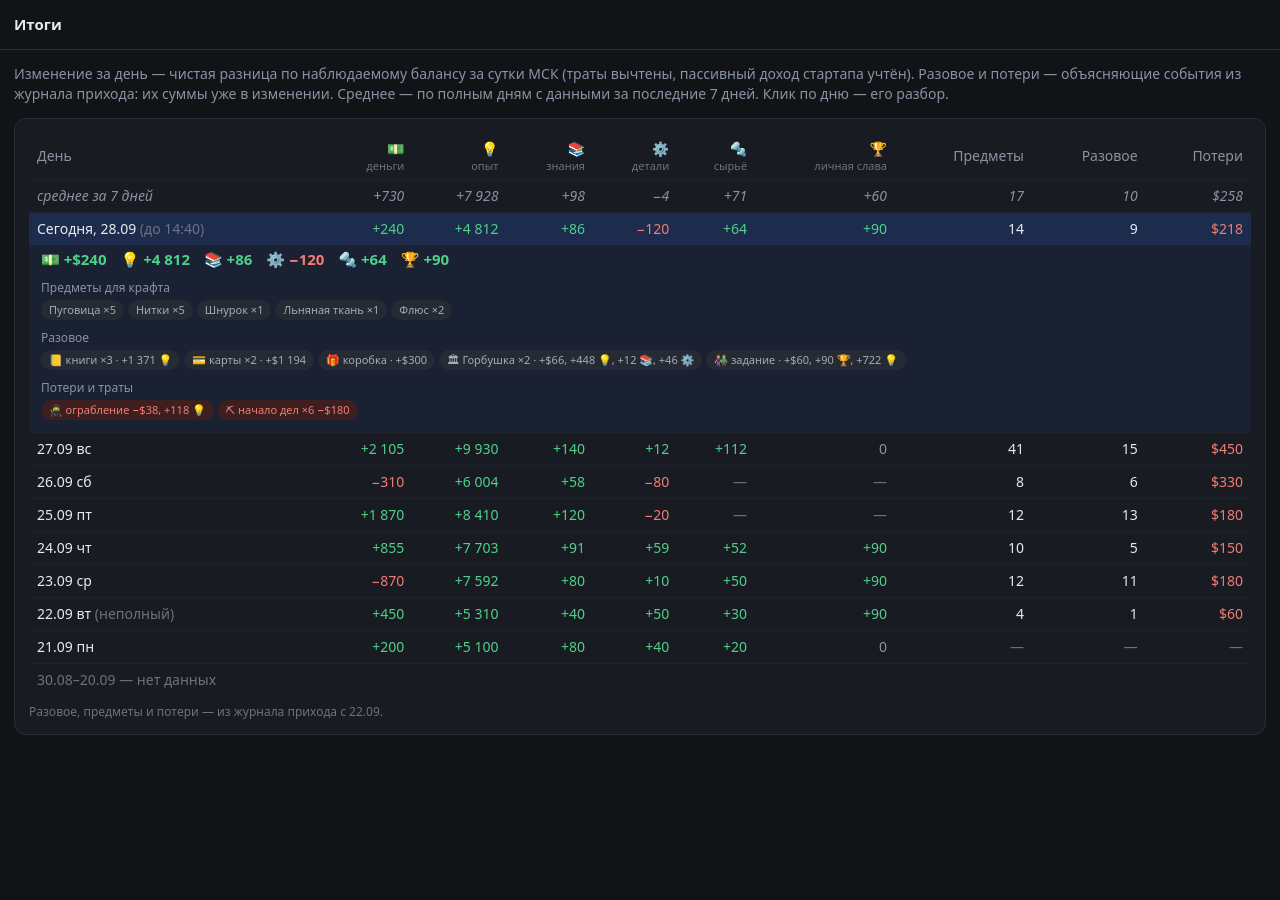
Test case: страница «Итоги» › клик по дню раскрывает его разбор
Click the button "27.09 вс": (64, 449) 33,435 -> 314,463
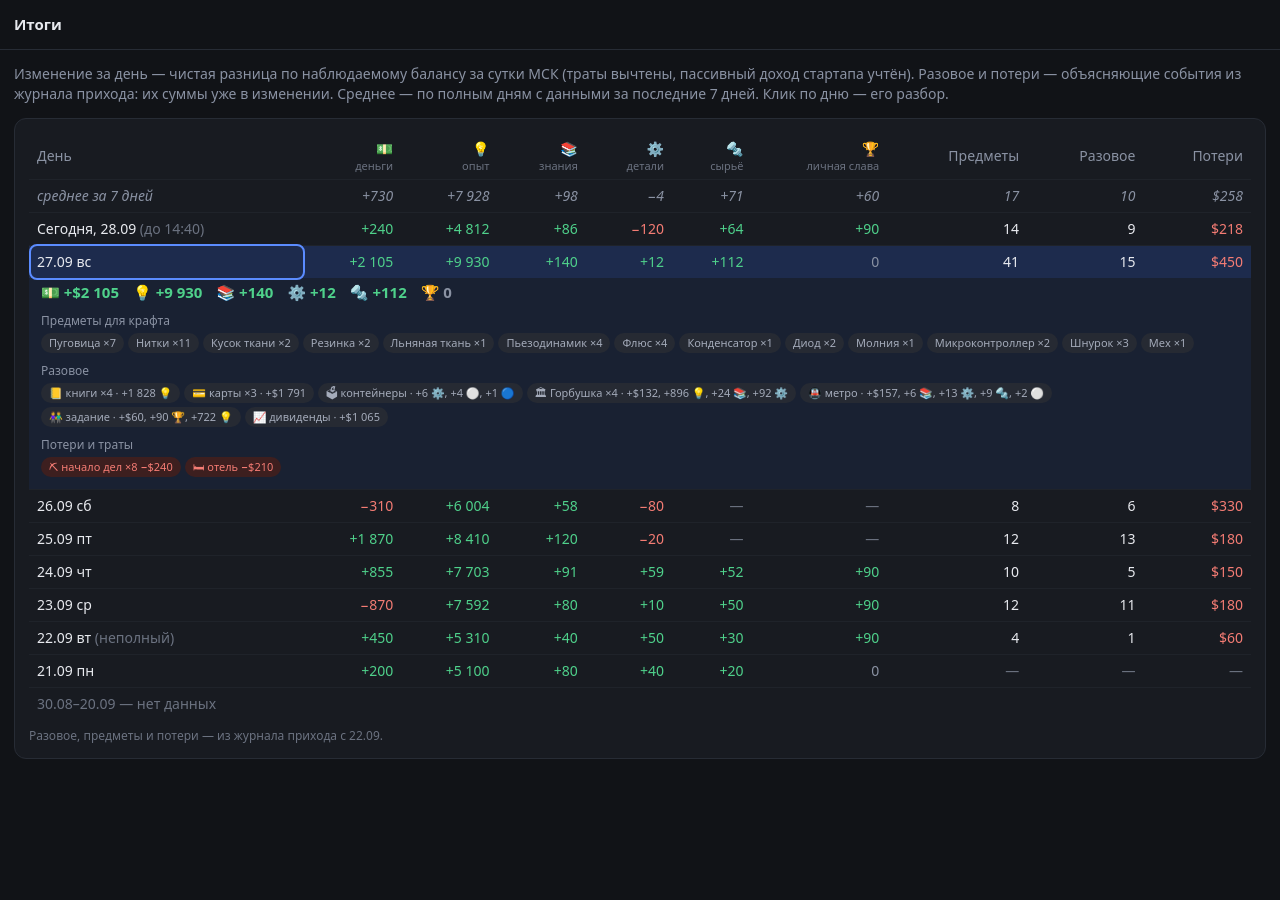
Expected: the button "27.09 вс" is expanded, 33,248 -> 301,276
